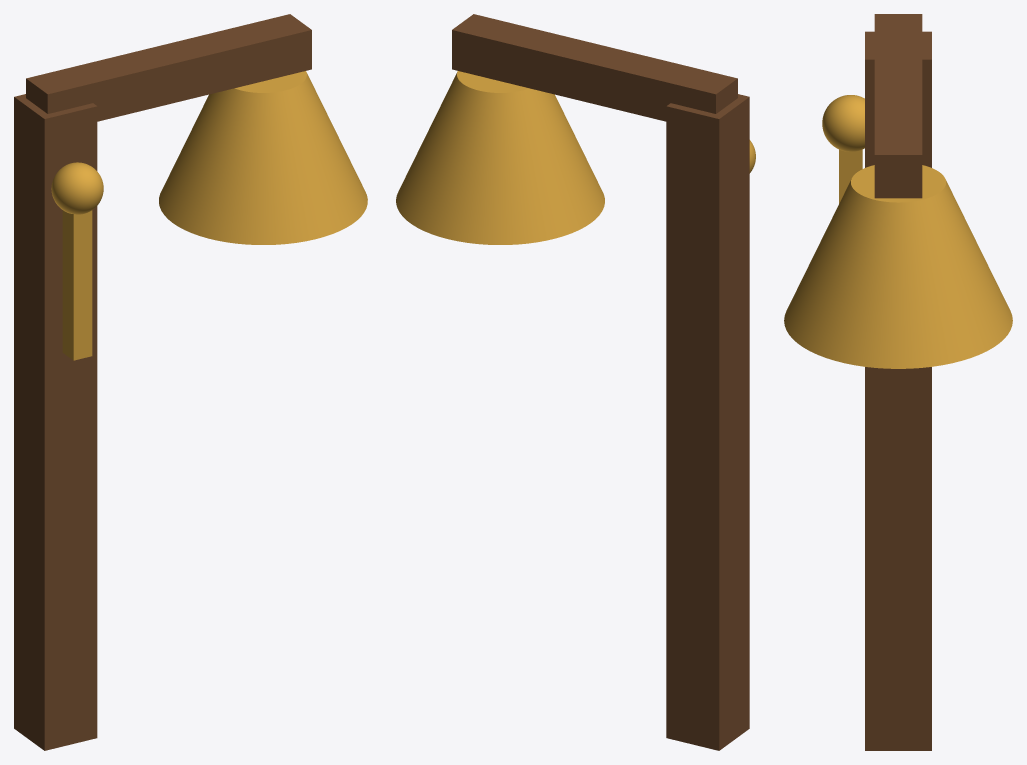
File: bell.glb
3 views of the same model, side by side, from view 1: azimuth 30°, elevation 25°; view 2: azimuth 150°, elevation 25°; view 3: azimuth 270°, elevation 25° (orthographic). The views are drawn at different scales.
Parts seen in each view (by area): view 1: Post, Bell2, Arm, Handle, Knob; view 2: Post, Bell2, Arm; view 3: Bell2, Post, Arm, Knob, Handle.
Part boxes in pixels (x1,y1,x2,y2): Post: (14, 94, 97, 750); Bell2: (159, 71, 367, 244); Arm: (26, 14, 311, 121); Handle: (62, 210, 92, 360); Knob: (51, 162, 103, 214); Post: (666, 94, 749, 750); Bell2: (396, 71, 604, 244); Arm: (452, 14, 737, 121); Bell2: (784, 165, 1012, 368); Post: (865, 31, 931, 750); Arm: (874, 14, 922, 198); Knob: (822, 95, 864, 151); Handle: (839, 149, 862, 203).
Size of the model in its own units: 0.86 by 1.65 by 0.48.
